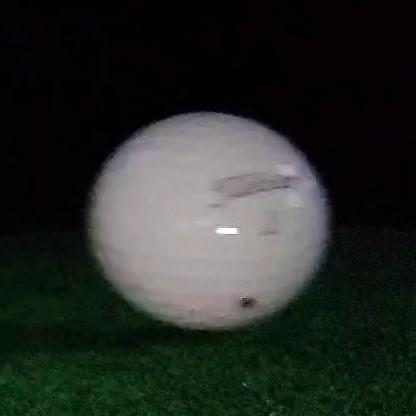golfball: (89, 113, 326, 329)
